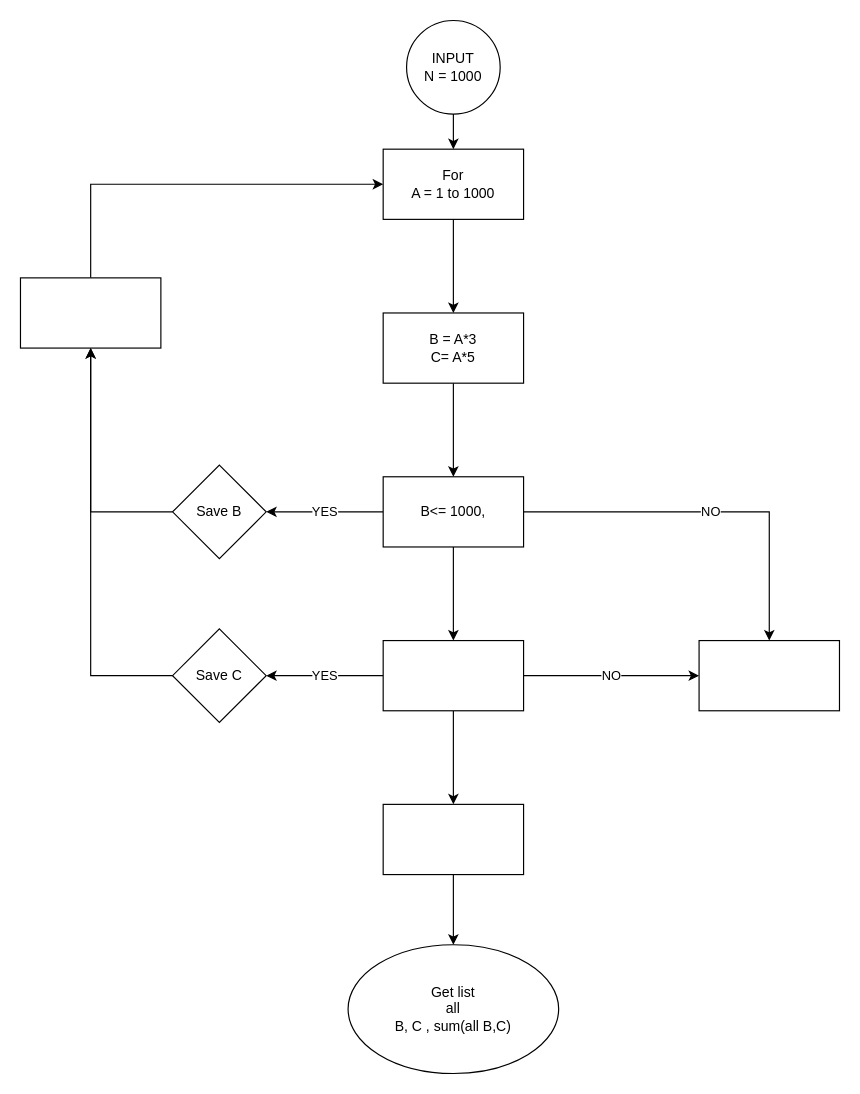
Image size: 860x1094. Some labels were removed from this diagram. The box of each missing label's shape, as (x1, y1, x2, y2) in pixels:
C <= 1000: (382, 639, 524, 711)
Get next A: (19, 277, 161, 348)
Stop: (698, 639, 839, 711)
SUM all (B,C): (382, 803, 524, 875)
